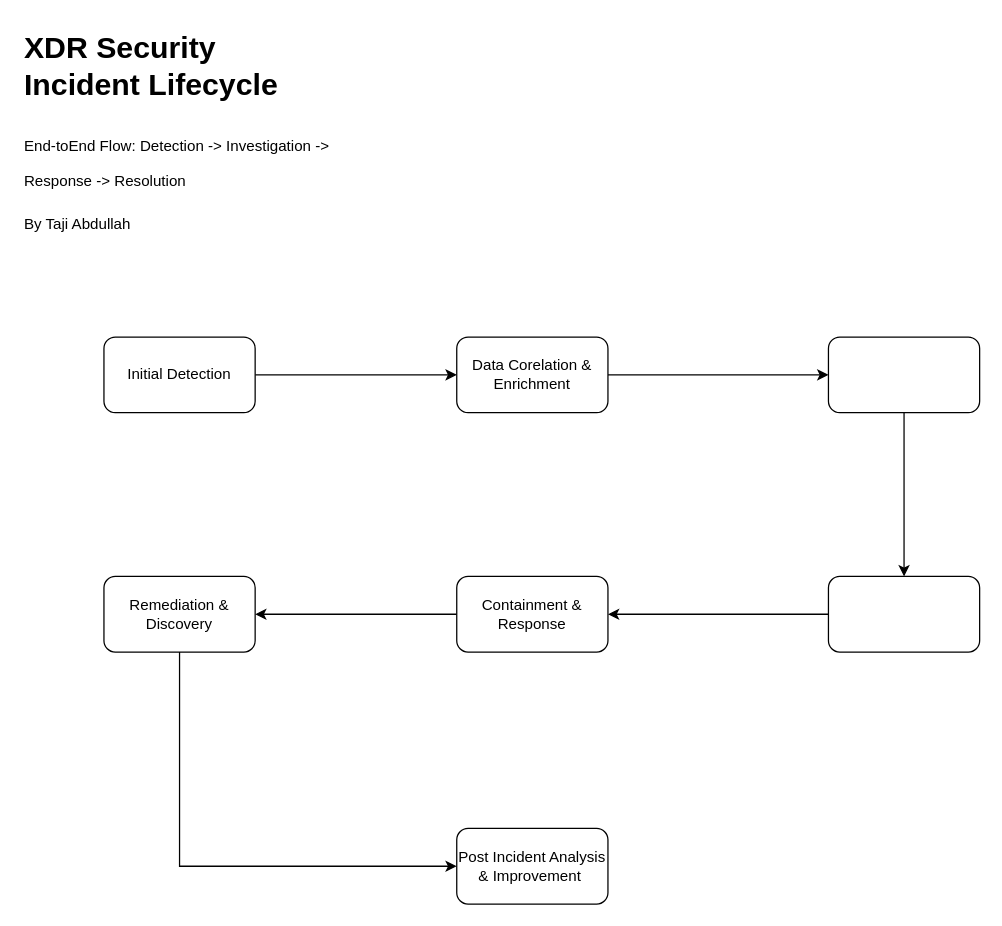
Image size: 1002x926. Some labels were removed from this diagram. Here are the shapes that lost their labels. From the top down, the centre of each, then its label:
point 903,374: Alert Generation & Prioritization
point 903,613: Automated Investigation
